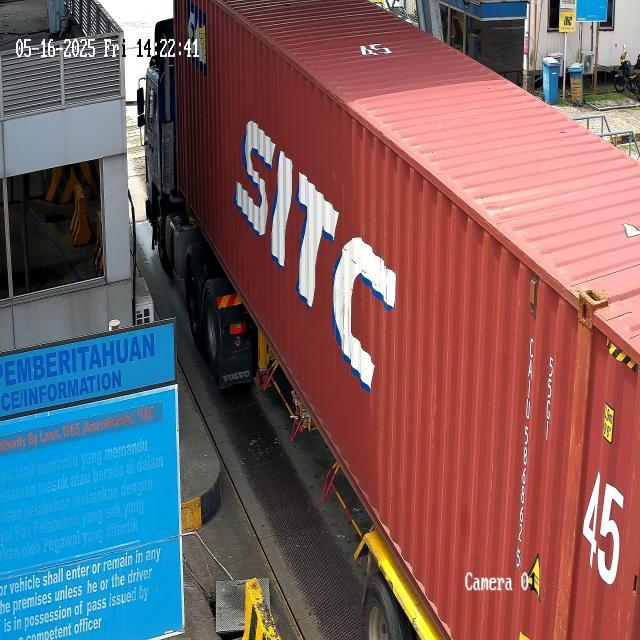ISO: (538, 342, 556, 440)
container_number: (506, 326, 540, 570)
